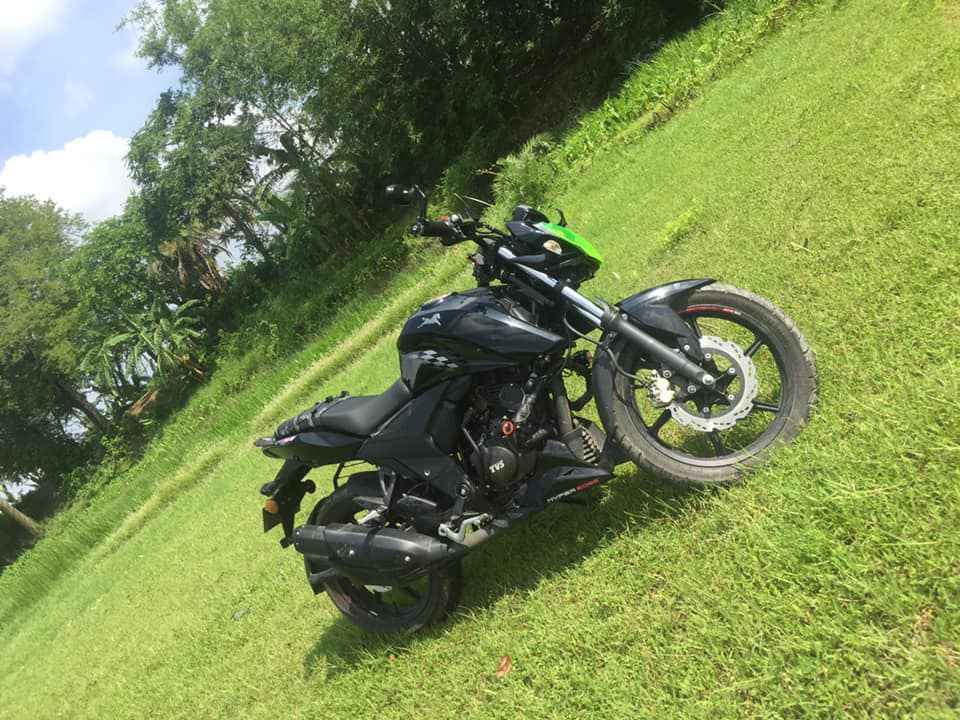bike: (246, 185, 818, 635)
